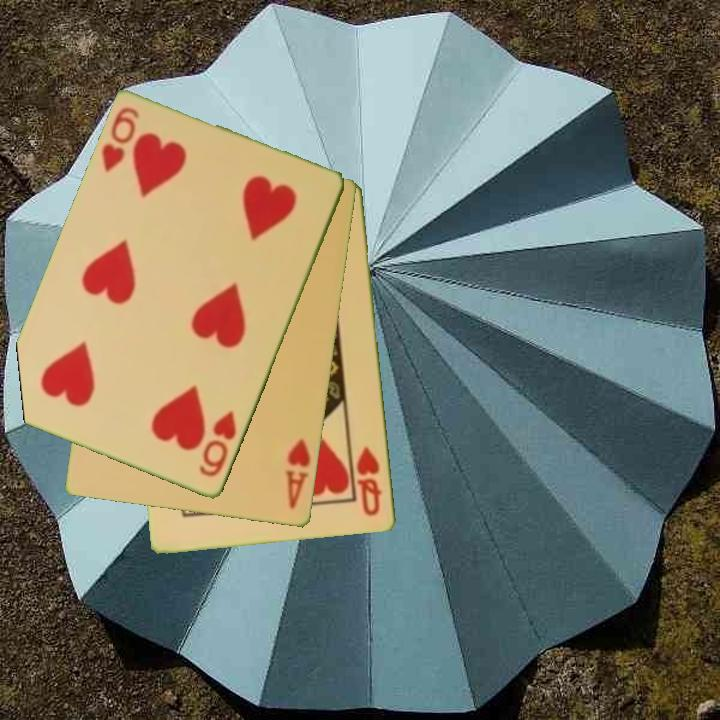6h: (98, 104, 143, 177), (196, 408, 240, 481)
Ah: (282, 435, 314, 513)
Qh: (353, 444, 386, 519)
